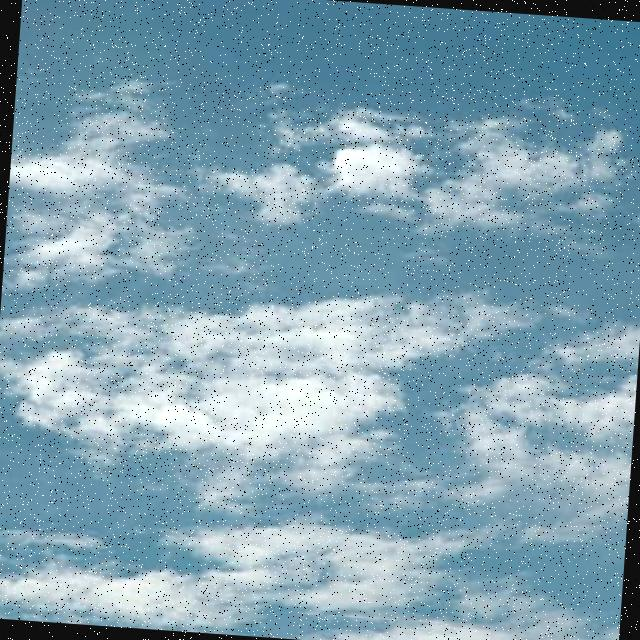Cc: (1, 57, 640, 574)
